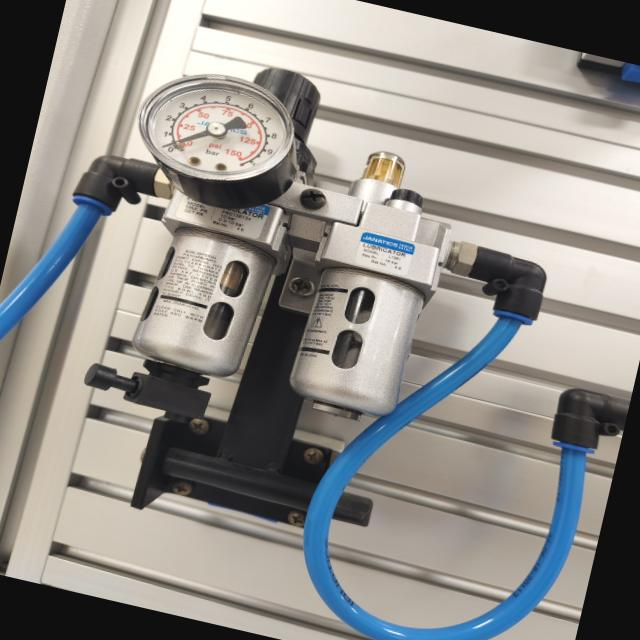FRL unit: (9, 22, 560, 589)
push button: (120, 55, 316, 222)
